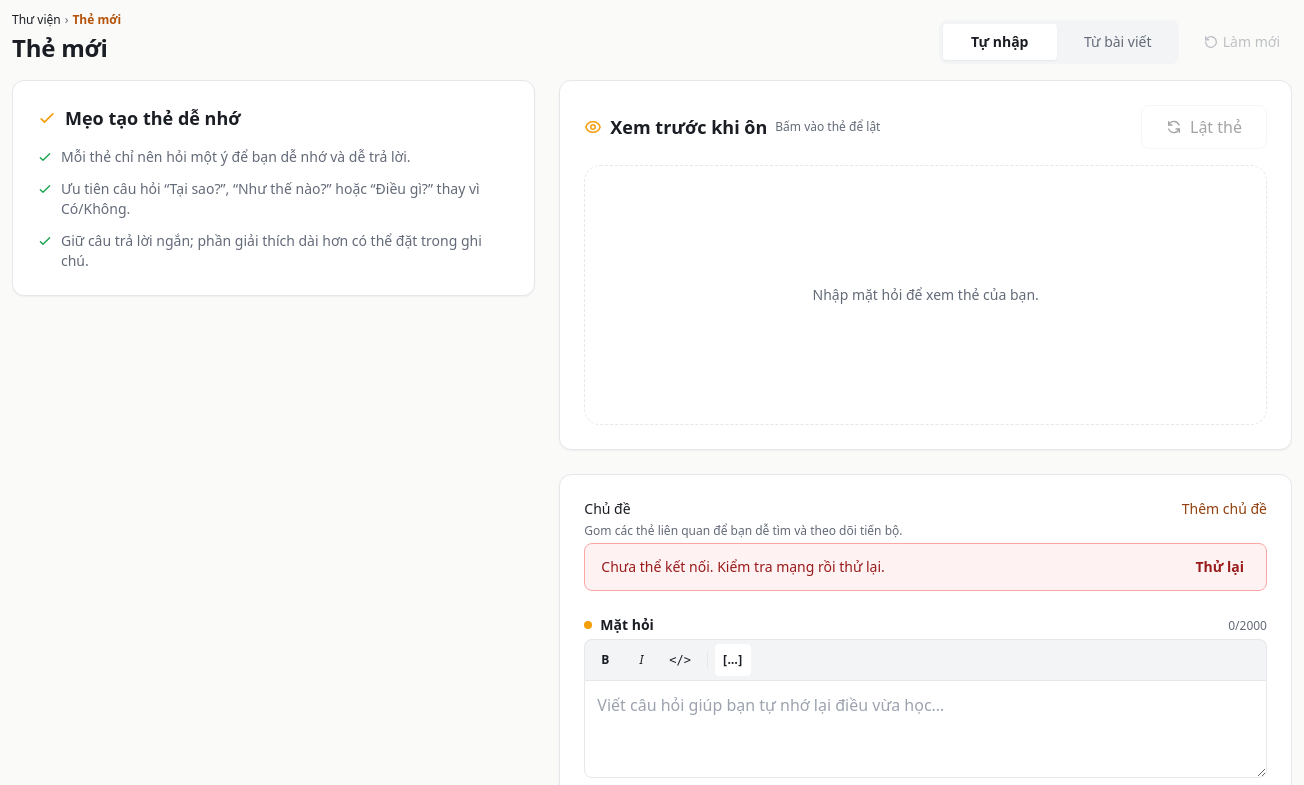
Test case: E2-S2-T5 — tạo thẻ từ URL › tab Từ URL mở ra ô nhập đường dẫn
Expected: the field labelled "Liên kết bài viết" is not shown
Click the tab "Từ bài viết". click: point(1118, 42)
box: [1061,24,1175,60]
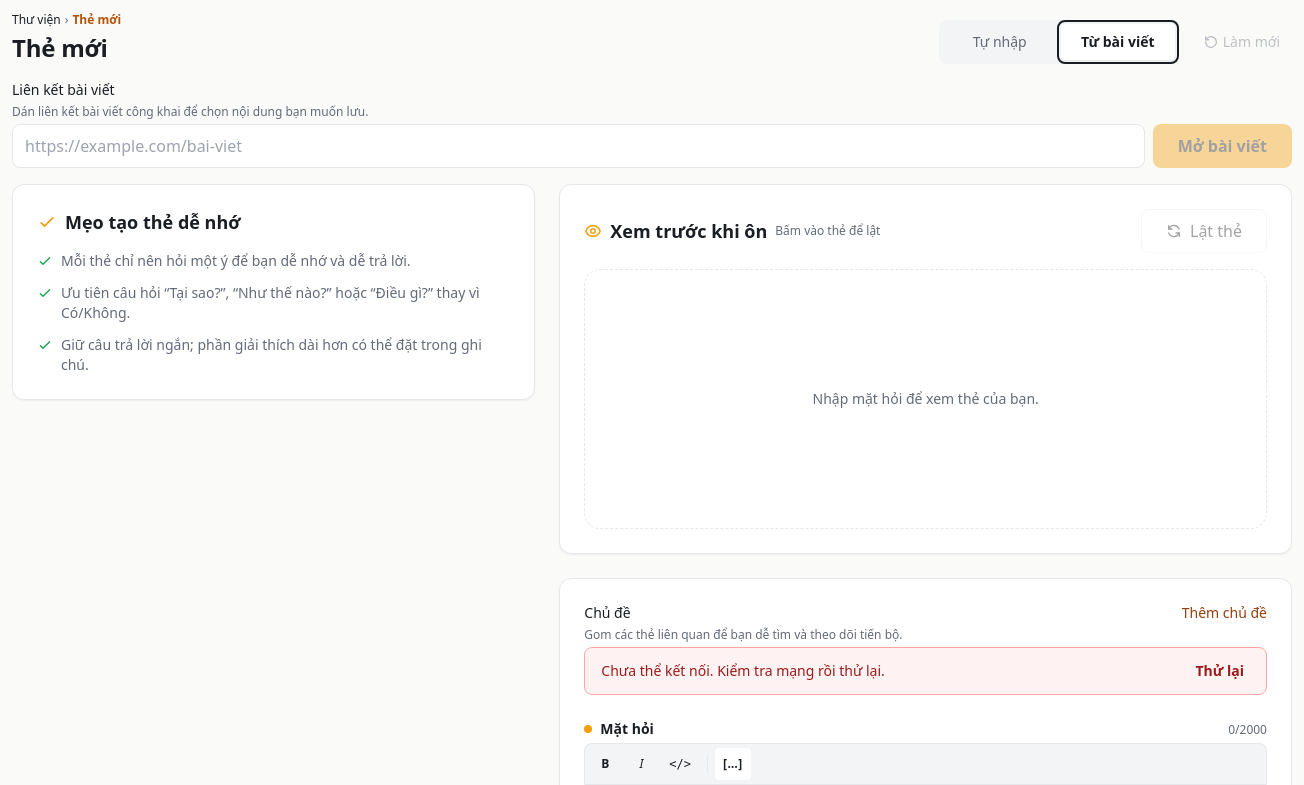
Result: the field labelled "Liên kết bài viết" is shown at [12,124,1145,168]
